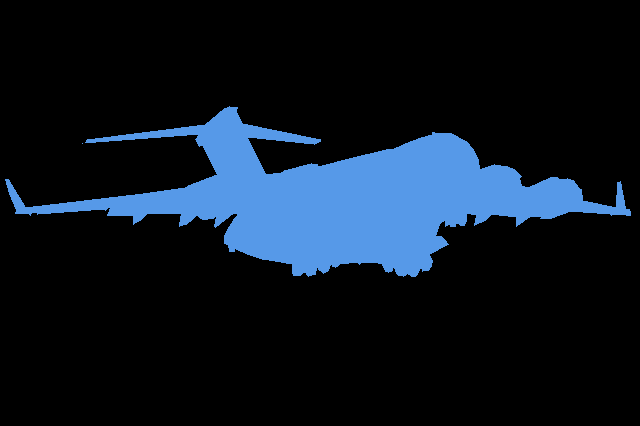Airplane: (5, 106, 630, 276)
